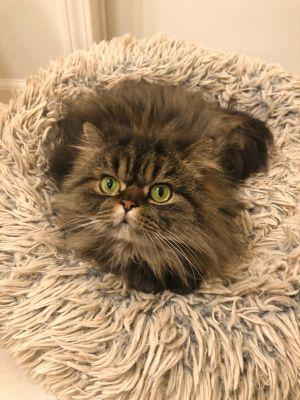persian: (60, 114, 228, 285)
